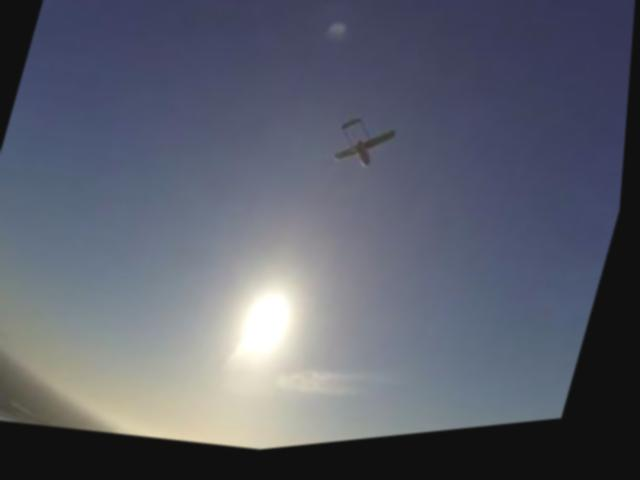uav: (330, 109, 406, 187)
